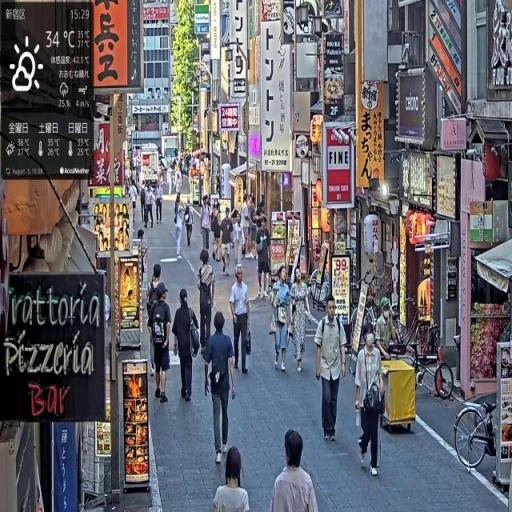person: (202, 310, 239, 470), (355, 324, 387, 478), (316, 295, 348, 445), (272, 428, 321, 512), (172, 288, 202, 404), (151, 281, 173, 406), (290, 269, 314, 376), (271, 268, 294, 376), (231, 265, 252, 378), (216, 447, 252, 512), (198, 251, 217, 358), (255, 216, 273, 302), (220, 210, 236, 278), (201, 197, 214, 259), (156, 181, 165, 225)
